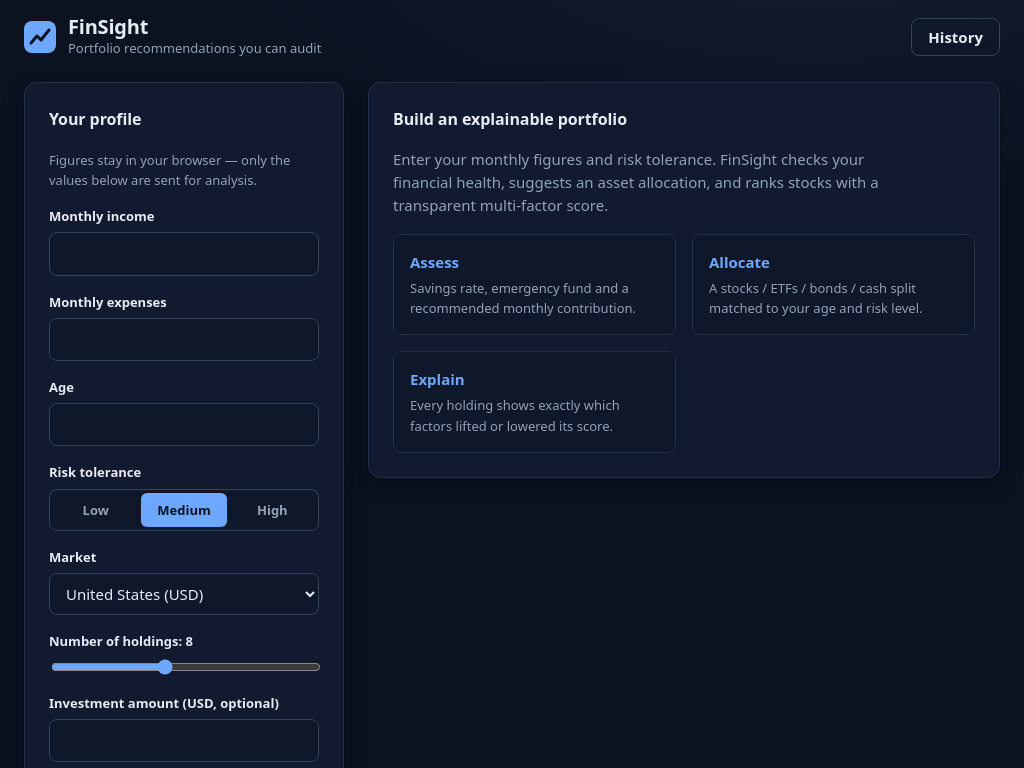
App › treats a history failure as non-fatal
This screenshot has width=1024, height=768.
Click the button "History".
click(956, 37)  # box [911, 18, 1000, 56]
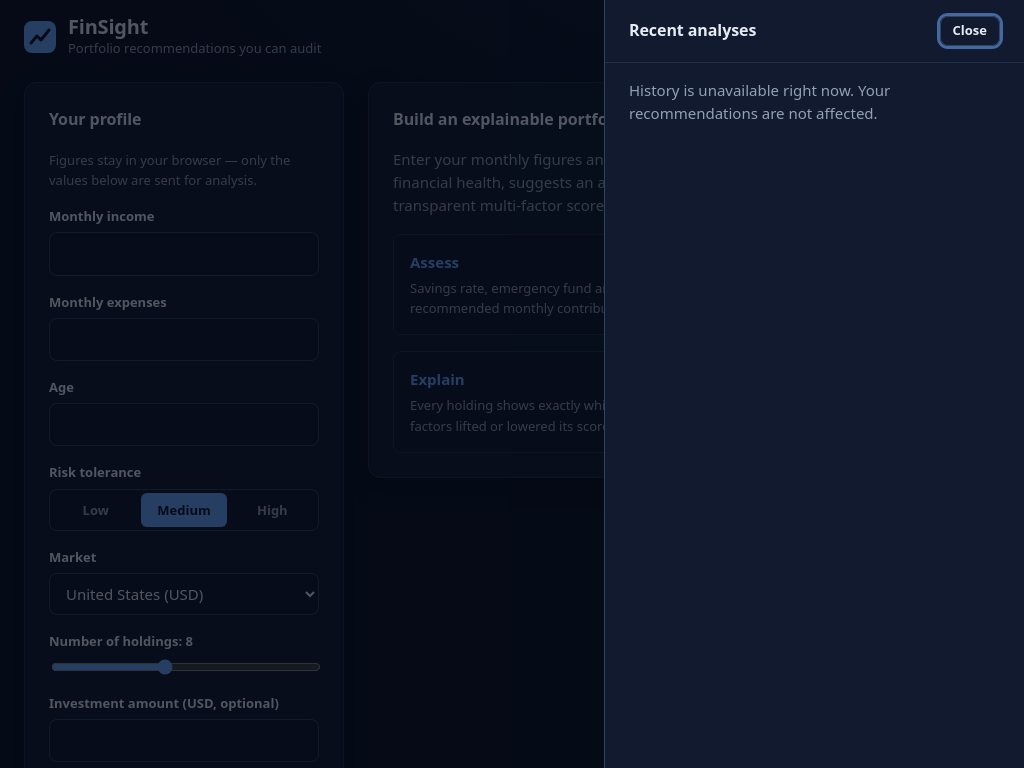
expect the heading "Build an explainable portfolio" is shown: met, box [393, 108, 627, 130]
expect the text "History is unavailable right now" is shown: met, box [629, 80, 890, 123]
